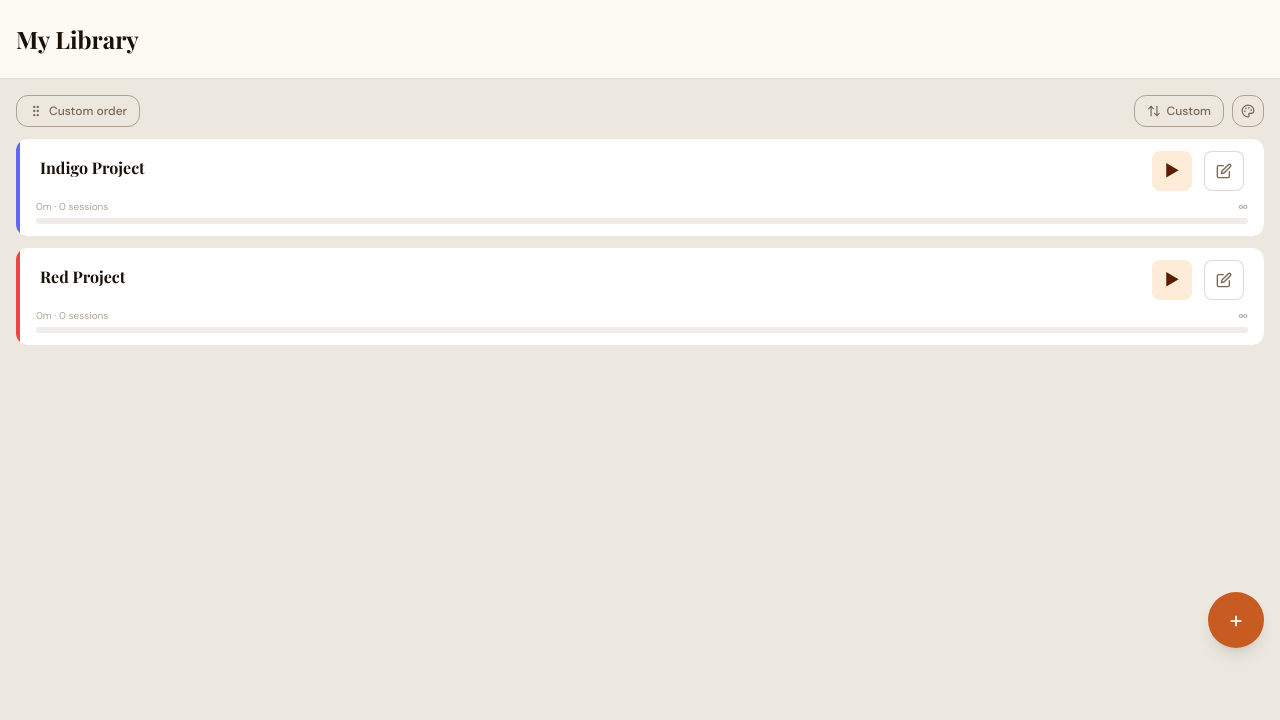
Test: ProjectLibrary color filter › selecting a color filters projects
What coordinates should you click on to do the following:
click the button named "Filter by color"
I would click on:
 (1248, 111)
Its box is [1232,95,1264,127].
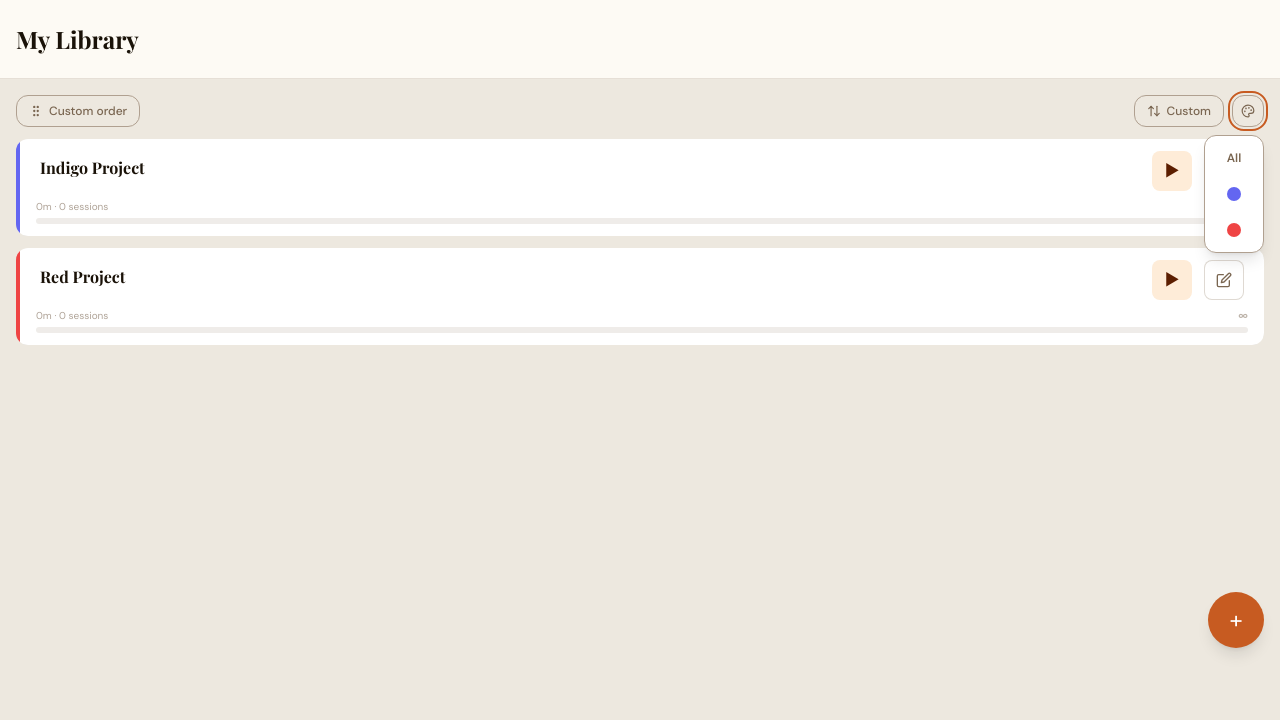
What coordinates should you click on to do the following:
click the button named "Filter by indigo"
I would click on:
 (1234, 194)
Its box is [1205,176,1263,212].
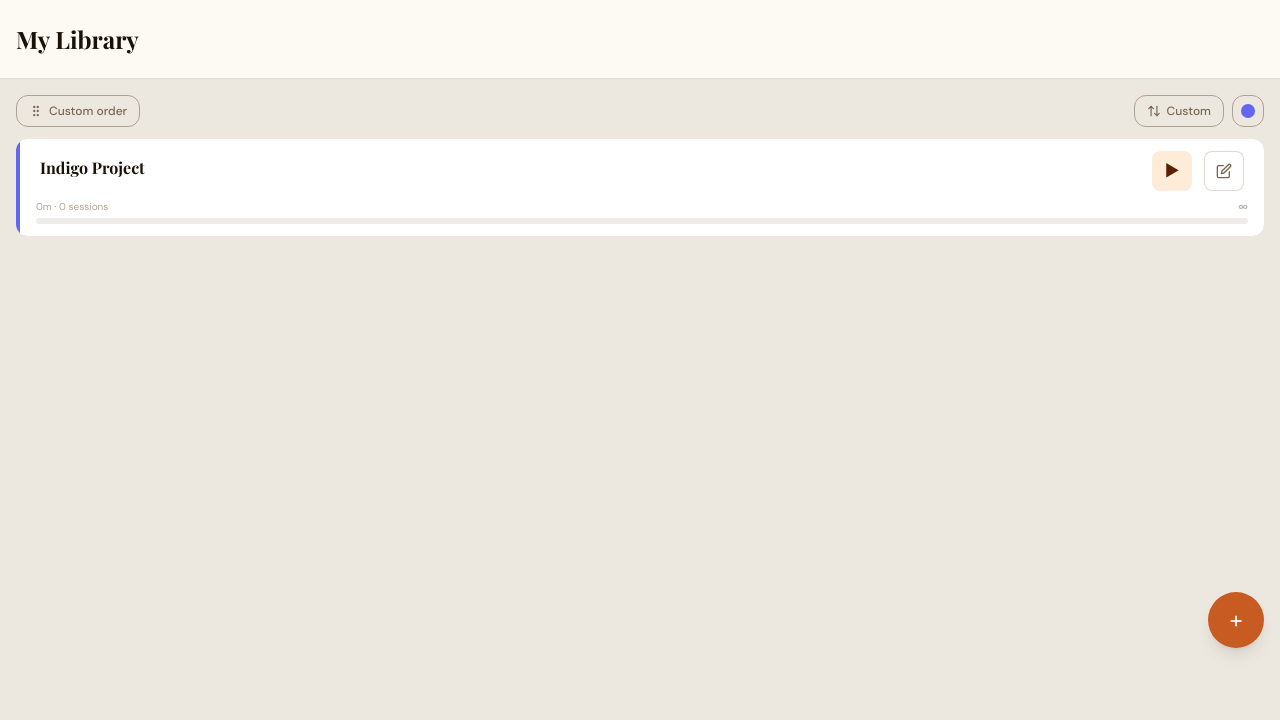
Check: the text "Indigo Project" is shown, box [40,157,145,178]
Check: the text "Red Project" is gone
